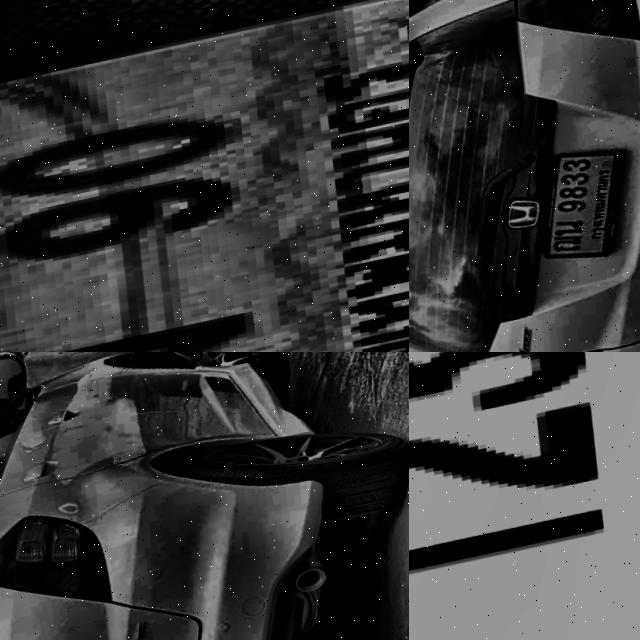license-plate: (0, 0, 409, 352), (409, 352, 640, 640), (531, 139, 640, 274)
